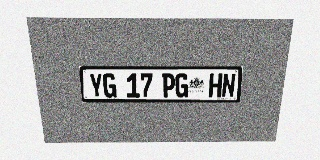1: (126, 73, 140, 98)
7: (140, 73, 153, 98)
G: (102, 73, 117, 98), (175, 73, 189, 97)
H: (208, 73, 223, 97)
N: (221, 73, 236, 97)
P: (162, 73, 175, 97)
Y: (89, 73, 103, 98)
